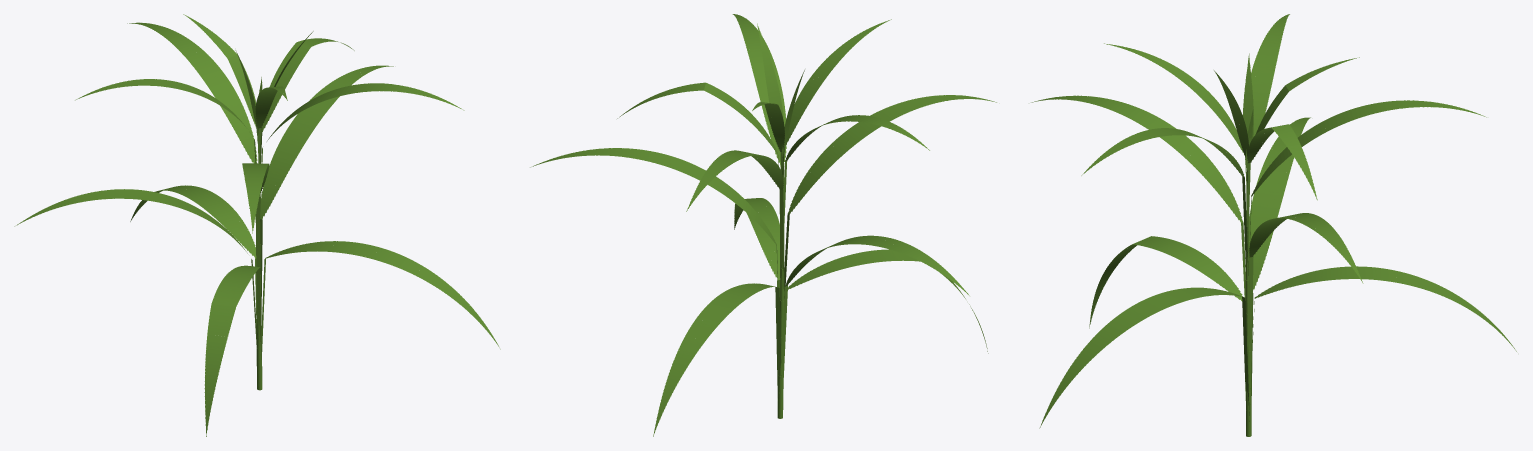
Rendered from maize_002_day_090.dae.
3 renders of one model, left to right at view 1: azimuth 30°, elevation 25°; view 2: azimuth 150°, elevation 25°; view 3: azimuth 270°, elevation 25°, orthographic. The views are drawn at different scales.
Parts seen in each view (by area): view 1: node; view 2: node; view 3: node.
Boxes of the visible parts, box(x1,y1,x2,y2) form: node: box(14, 14, 500, 436); node: box(530, 14, 996, 436); node: box(1031, 14, 1516, 436).
Bounding box in the file's own units: 1.62 × 1.38 × 1.59.
1 material, 1 textured.
